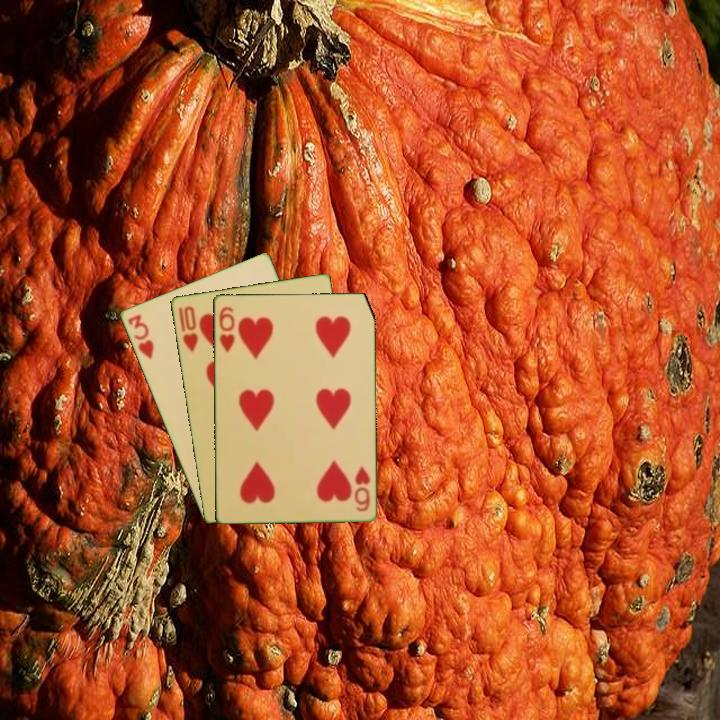10h: (175, 302, 201, 355)
3h: (124, 311, 157, 361)
6h: (350, 462, 373, 514), (215, 303, 237, 355)
